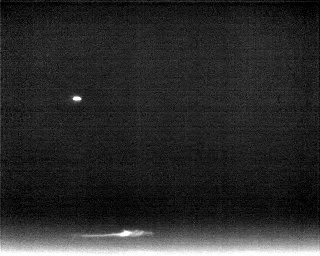AIRPLANE: (71, 93, 83, 104)
